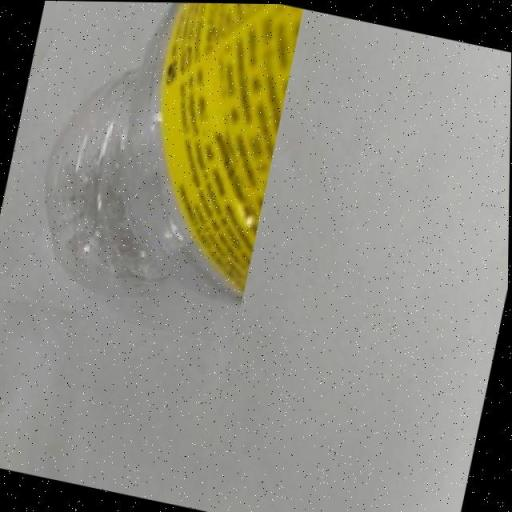plastic: (0, 0, 303, 345)
